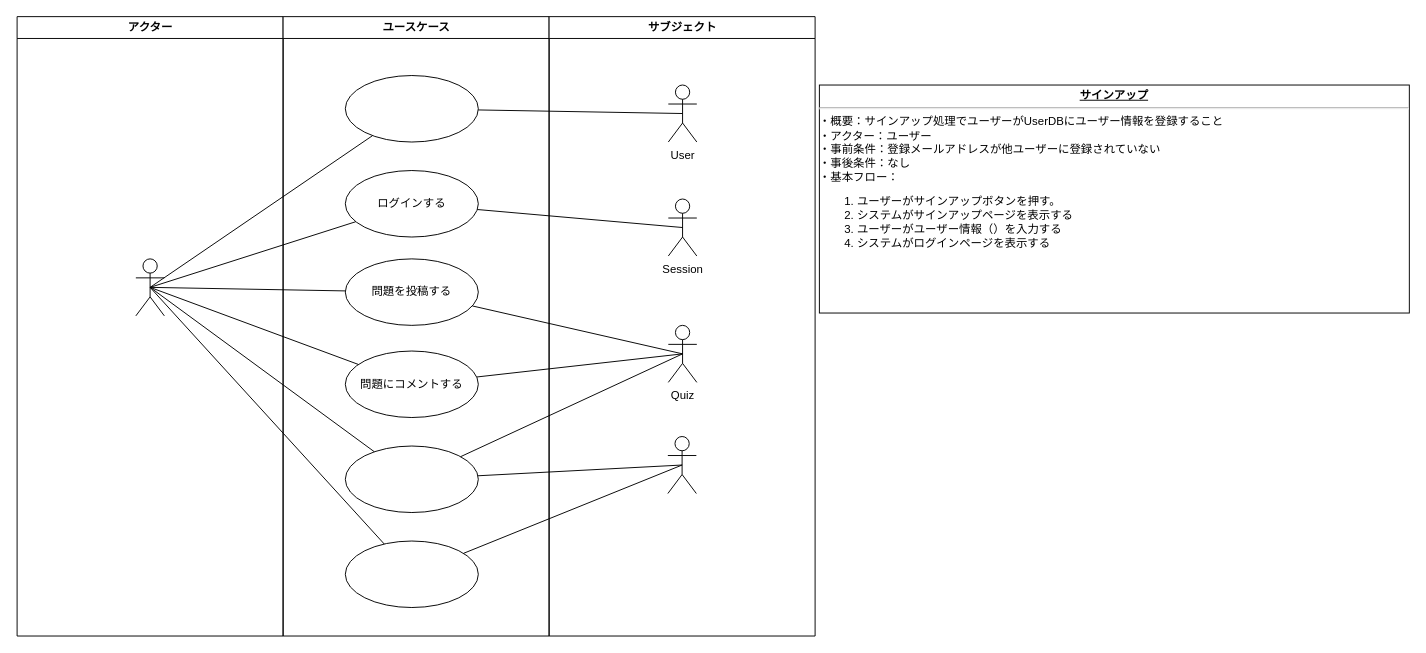
Some shapes in this 1426 by 653 pixel diagram are drawn without their labels. Each missing label, with the box of its shape:
Quiz_collection: (667, 436, 696, 494)
サインアップする: (344, 75, 478, 142)
ユーザー: (135, 258, 164, 316)
問題集に問題を登録する: (344, 445, 478, 513)
問題集を作成する: (344, 540, 478, 608)
